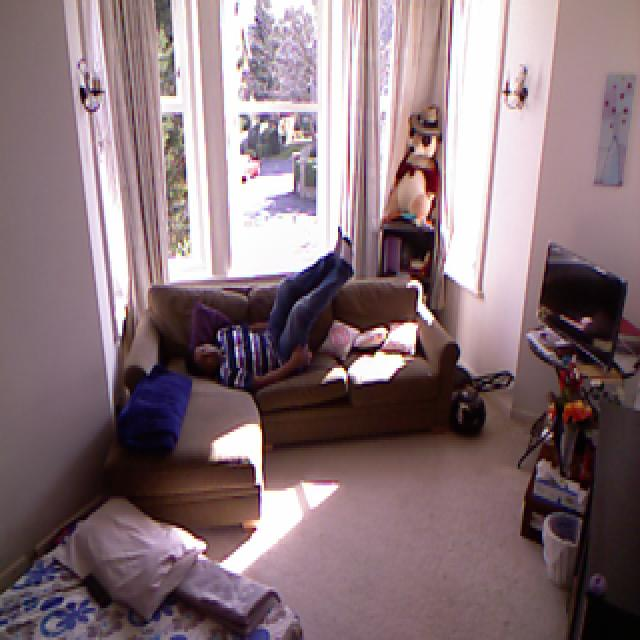lying: (181, 229, 353, 390)
